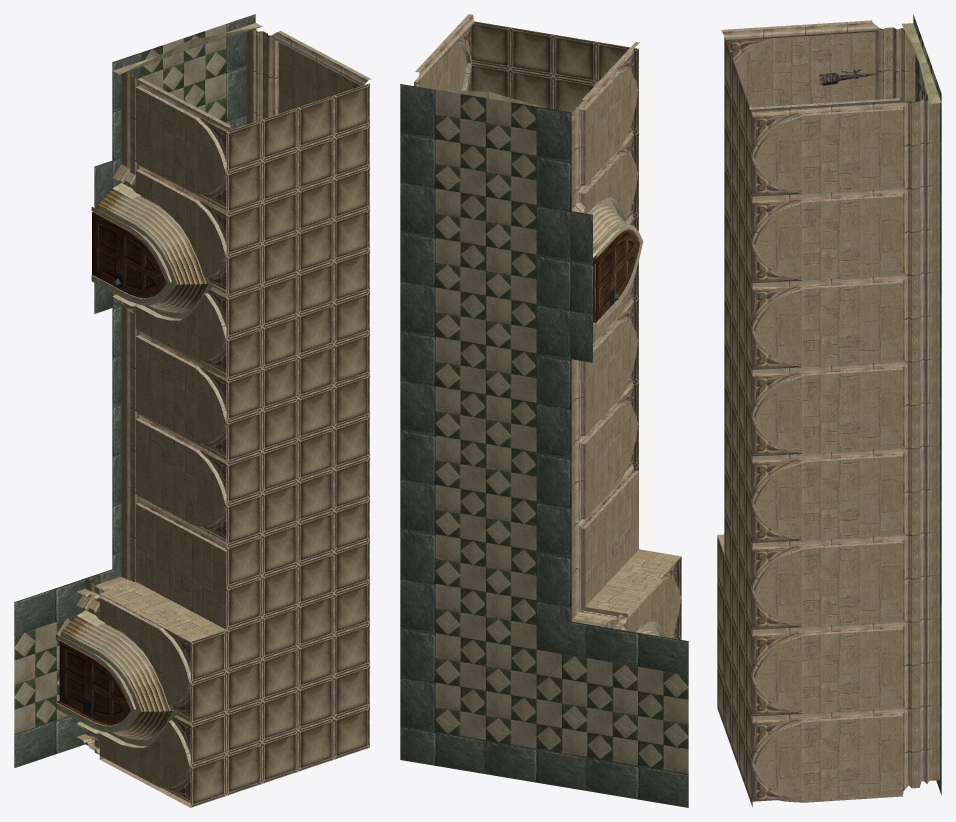
The model's file is Third-v1.glb.
3 renders of one model, left to right at view 1: azimuth 30°, elevation 25°; view 2: azimuth 150°, elevation 25°; view 3: azimuth 270°, elevation 25°, orthographic. The views are drawn at different scales.
Parts seen in each view (by area): view 1: Third_Hogwarts, Third_Reveal; view 2: Third_Hogwarts; view 3: Third_Hogwarts.
Boxes of the visible parts, box(x1,y1,x2,y2) form: Third_Hogwarts: box(14, 14, 371, 807); Third_Reveal: box(59, 642, 130, 724); Third_Hogwarts: box(400, 14, 688, 807); Third_Hogwarts: box(717, 14, 941, 807).
Bounding box in the file's own units: 0.8844 × 1.98 × 0.5718.
Materials: 48 (48 with a texture image).
